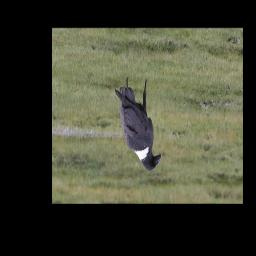Crow: (114, 79, 161, 172)
